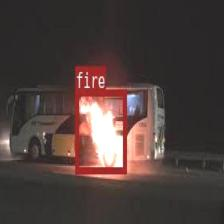fire: (75, 89, 126, 172)
